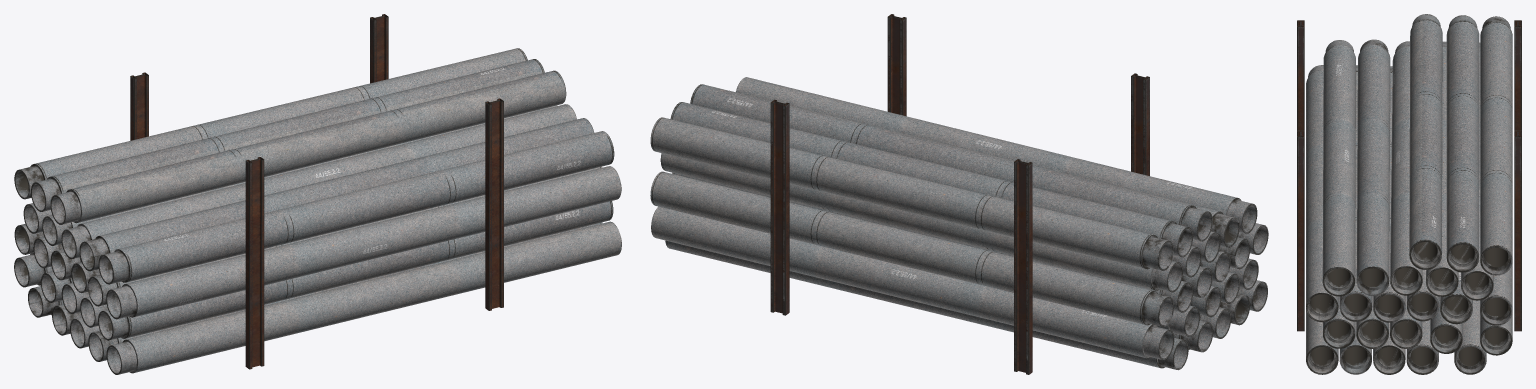
The model's file is concrete_pipes_12_mb.glb.
3 renders of one model, left to right at view 1: azimuth 30°, elevation 25°; view 2: azimuth 150°, elevation 25°; view 3: azimuth 270°, elevation 25°, orthographic. The views are drawn at different scales.
Parts seen in each view (by area): view 1: Cloner; view 2: Cloner; view 3: Cloner.
Boxes of the visible parts, bbox=[...] form: Cloner: bbox=[14, 14, 621, 374]; Cloner: bbox=[650, 14, 1268, 374]; Cloner: bbox=[1297, 14, 1521, 374].
Bounding box in the file's own units: 5.02 × 1.97 × 2.07.
Materials: 1 (1 with a texture image).
